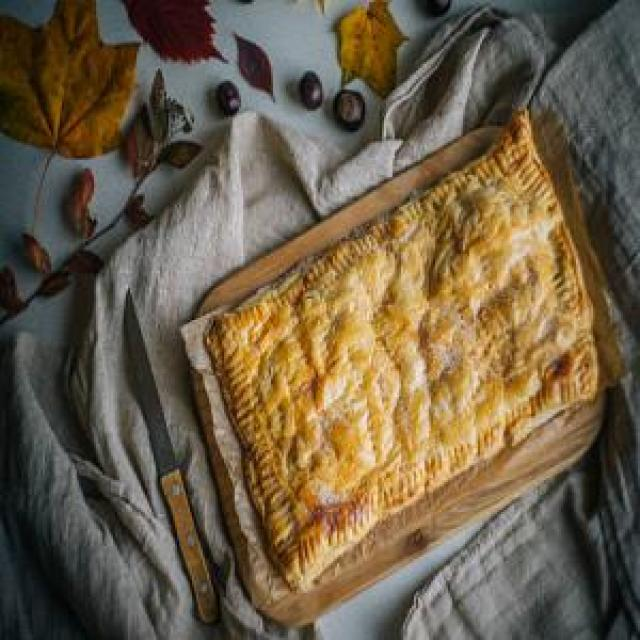knife: (122, 288, 220, 627)
